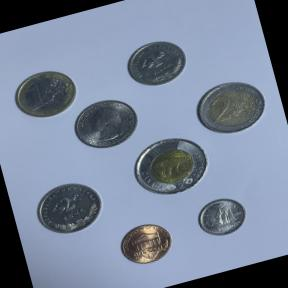1 Euro: (6, 62, 83, 126)
2 Euro: (188, 70, 275, 144)
Canda-10cent-: (192, 190, 253, 244)
Canda-2Dollar-: (124, 126, 220, 208)
Croatia-2Kune-: (26, 171, 114, 248)
US-1cent-: (113, 216, 179, 272)
US-25cent-: (68, 92, 144, 156)
